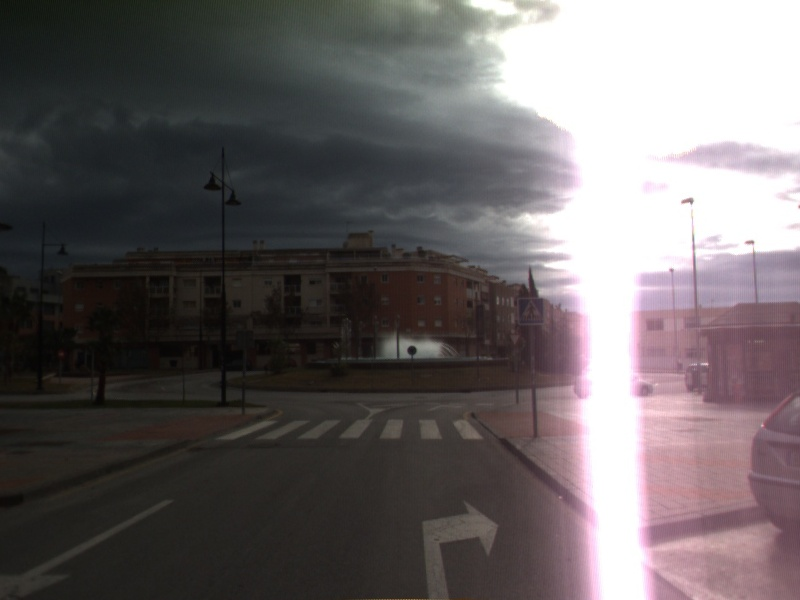RIGHT: (419, 495, 502, 600)
